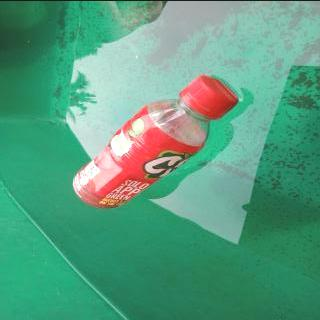bottle: (70, 74, 239, 208)
